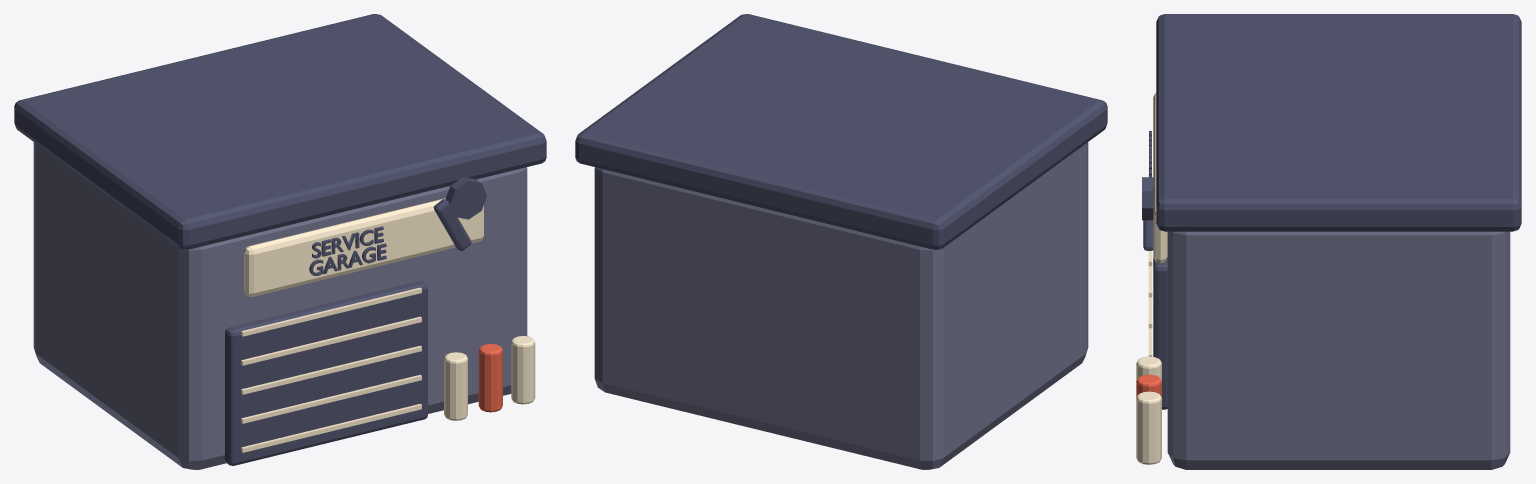
Rendered from service-garage.glb.
3 views of the same model, side by side, from view 1: azimuth 30°, elevation 25°; view 2: azimuth 150°, elevation 25°; view 3: azimuth 270°, elevation 25° (orthographic). The views are drawn at different scales.
Parts seen in each view (by area): view 1: GarageRoof, GarageBody, GarageDoor, GarageSign, GarageLabel, Bollard_2, Bollard_1, Bollard_0, WrenchHead, GarageDoorSlat_3, GarageDoorSlat_1, GarageDoorSlat_2 (+3 smaller); view 2: GarageBody, GarageRoof; view 3: GarageBody, GarageRoof, Bollard_2, GarageDoor, GarageSign, WrenchHead, Bollard_0, Bollard_1.
Part boxes in pixels (<box>): GarageRoof: <box>14,14,546,249</box>; GarageBody: <box>33,142,527,469</box>; GarageDoor: <box>224,281,427,465</box>; GarageSign: <box>244,198,483,296</box>; GarageLabel: <box>309,226,386,275</box>; Bollard_2: <box>511,336,535,404</box>; Bollard_1: <box>478,343,502,412</box>; Bollard_0: <box>444,352,467,420</box>; WrenchHead: <box>445,177,486,219</box>; GarageDoorSlat_3: <box>241,316,421,365</box>; GarageDoorSlat_1: <box>241,374,421,423</box>; GarageDoorSlat_2: <box>241,345,421,394</box>; GarageBody: <box>594,142,1088,469</box>; GarageRoof: <box>575,14,1107,249</box>; GarageBody: <box>1167,231,1510,469</box>; GarageRoof: <box>1156,14,1521,231</box>; Bollard_2: <box>1136,391,1161,464</box>; GarageDoor: <box>1153,257,1167,409</box>; GarageSign: <box>1153,92,1167,263</box>; WrenchHead: <box>1142,177,1153,220</box>; Bollard_0: <box>1136,356,1161,380</box>; Bollard_1: <box>1136,374,1161,397</box>.
Size of the model in its own units: 3.18 by 2.17 by 2.7.
